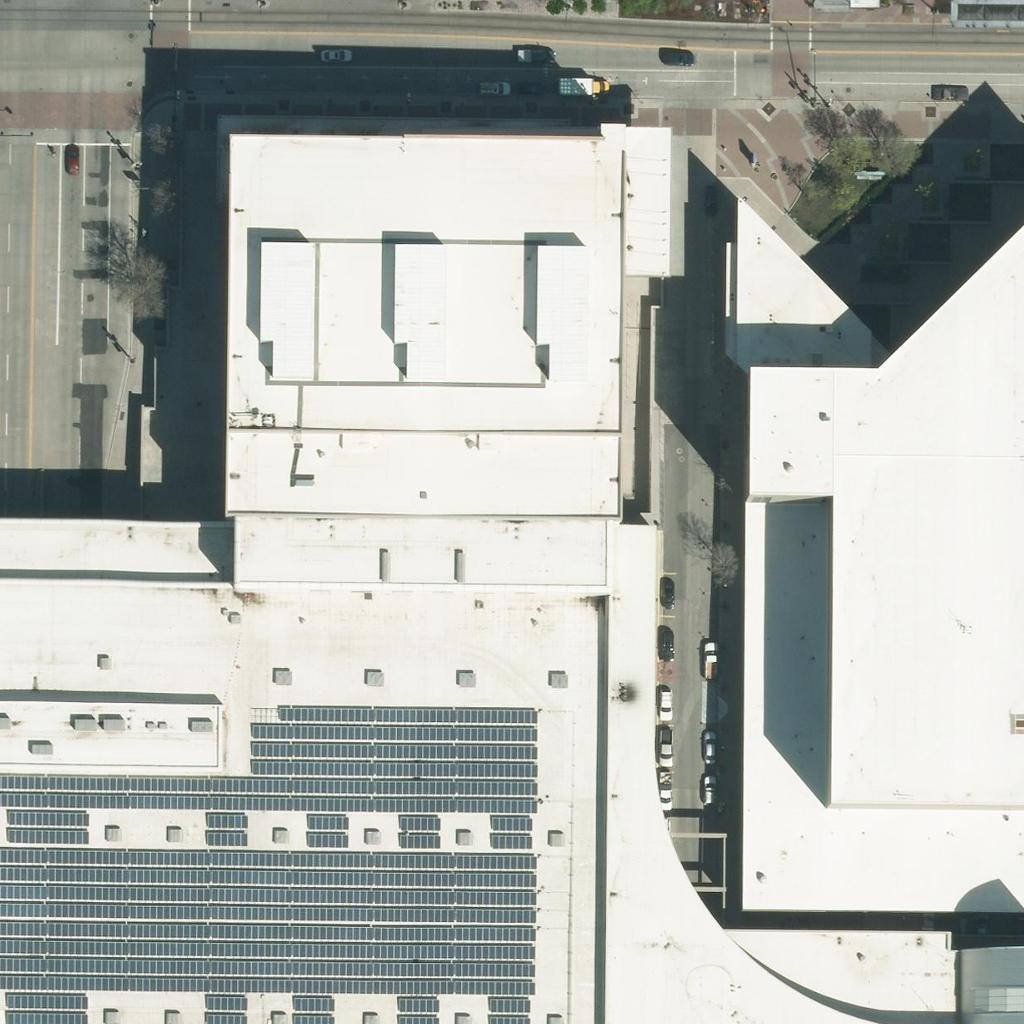car: (522, 37, 556, 71), (318, 38, 352, 72), (659, 39, 693, 73), (476, 70, 510, 104), (512, 71, 546, 105), (933, 73, 967, 107), (57, 141, 91, 175), (694, 183, 728, 217), (652, 576, 686, 610), (648, 625, 682, 659), (694, 639, 728, 673), (648, 686, 682, 720), (691, 730, 725, 764), (648, 732, 682, 766), (691, 775, 725, 809), (645, 776, 679, 810)
